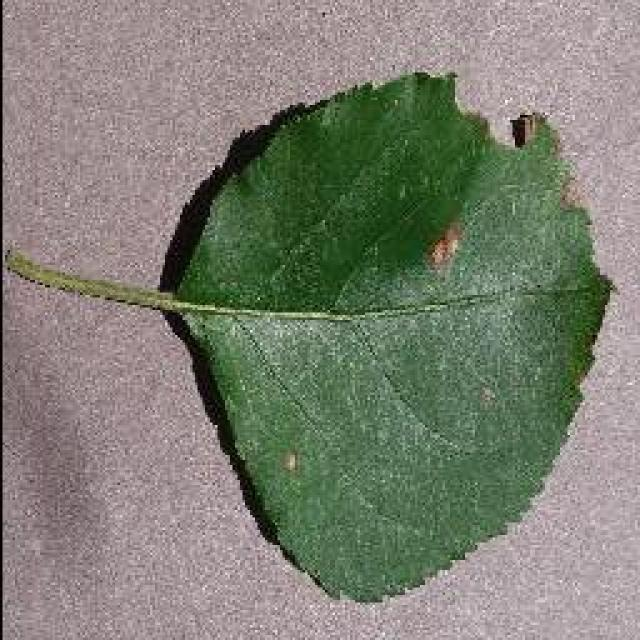Black_rot: (5, 68, 615, 602)
